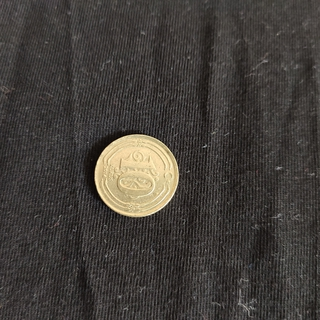10KURUS: (93, 132, 181, 219)
